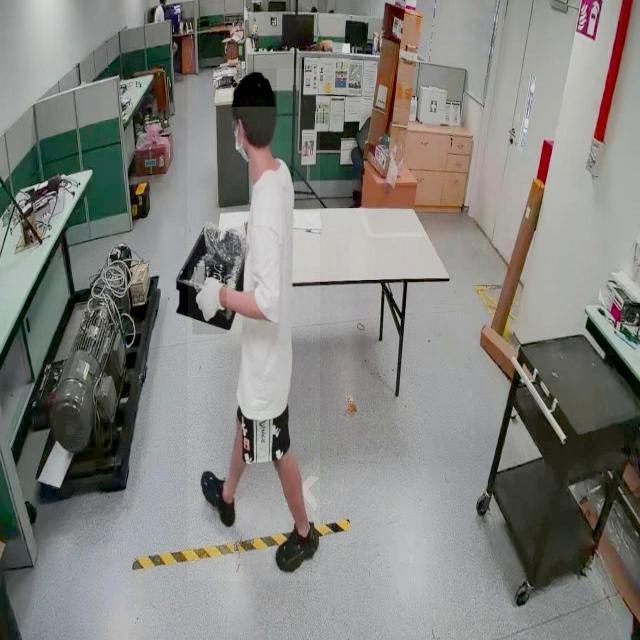hand_glove: (192, 266, 226, 334)
head_nohelmet: (231, 68, 277, 108)
person: (187, 69, 320, 582)
shoes: (272, 518, 322, 574), (202, 460, 240, 529)
